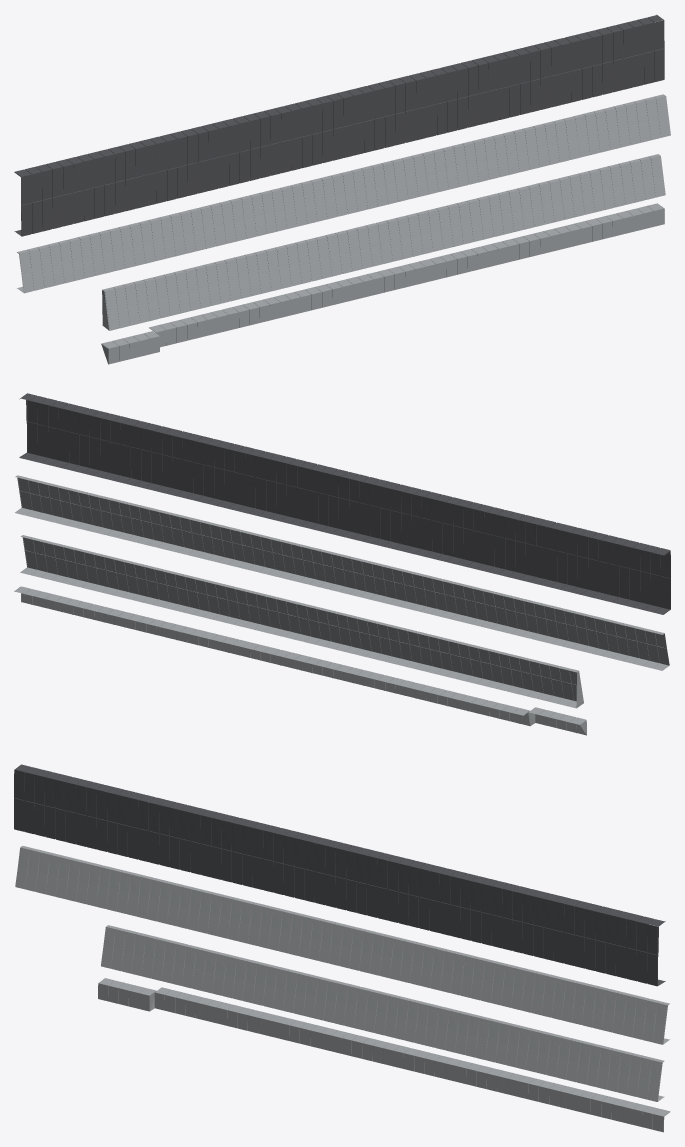
The model's file is LabWallsRight.obj.
3 views of the same model, one above another, from view 1: azimuth 30°, elevation 25°; view 2: azimuth 150°, elevation 25°; view 3: azimuth 330°, elevation 25° (orthographic).
Parts seen in each view (by area): view 1: LeftLabWall; view 2: LeftLabWall; view 3: LeftLabWall.
Boxes of the visible parts, x1,y1,x2,y2 form: LeftLabWall: (14, 14, 670, 364); LeftLabWall: (14, 393, 670, 735); LeftLabWall: (14, 764, 670, 1132).
Size of the model in its own units: 142 by 43.19 by 4.46.
